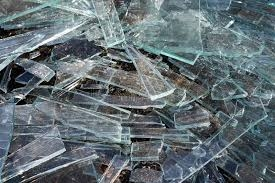glass: (123, 1, 207, 69), (19, 82, 132, 121), (1, 125, 73, 181), (120, 40, 181, 102), (69, 120, 192, 142), (1, 4, 93, 30), (75, 90, 168, 110), (89, 1, 126, 47), (10, 53, 57, 83), (1, 100, 18, 181), (207, 73, 253, 102), (97, 152, 133, 183), (171, 109, 212, 132), (99, 114, 164, 126), (128, 141, 163, 163), (214, 108, 240, 125)
